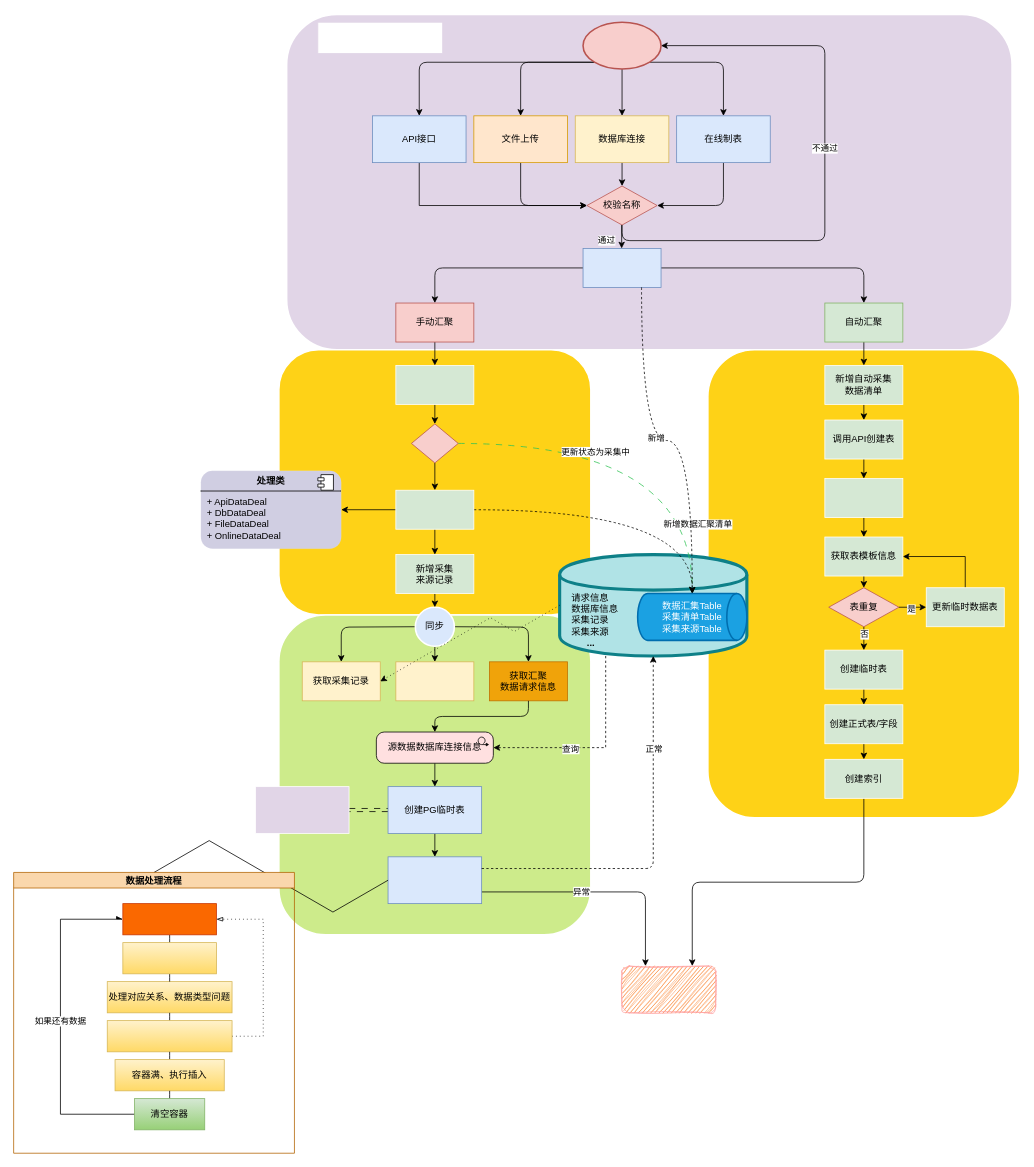
This 1034x1167 diagram has some shape labels left out. Here are the shapes that lost their labels. From the top down, the box of each, then its label:
(317, 21, 443, 53): 数据汇聚新增流程
(582, 21, 661, 69): 开始
(582, 248, 661, 287): 创建采集记录
(395, 365, 474, 404): 新增采集 数据清单
(411, 423, 458, 463): 更新
(395, 489, 474, 529): 获取逻辑处理类
(824, 478, 903, 518): 获取API抓取请求记录
(395, 661, 474, 701): 获取日志
(255, 786, 349, 833): 字段匹配映射
(387, 856, 482, 904): 处理数据并插入
(122, 903, 216, 935): 内存容器
(122, 942, 216, 974): 获取字段名称
(621, 965, 716, 1013): 结束
(106, 1020, 232, 1052): 组装参数保存至容器中
